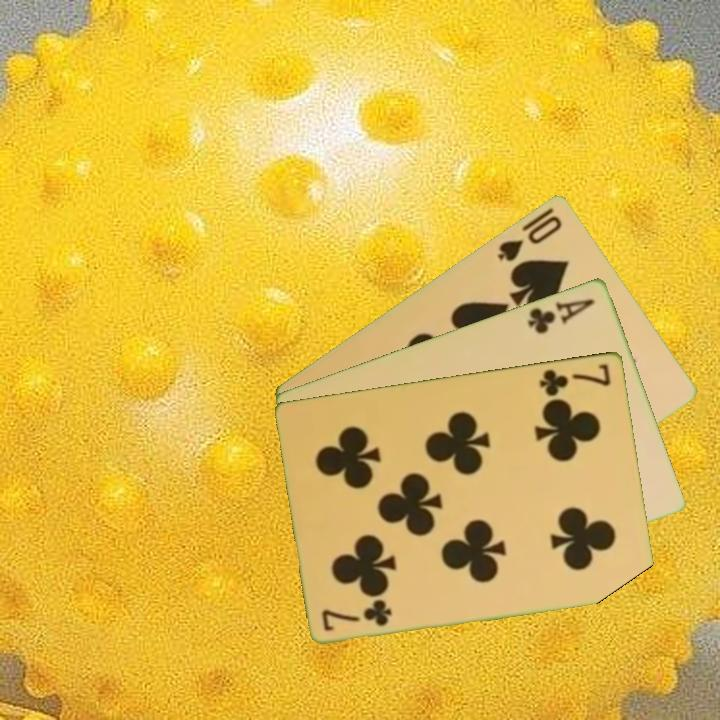10s: (493, 211, 565, 264)
7c: (536, 360, 614, 399), (318, 597, 395, 633)
Ac: (524, 294, 598, 336)
